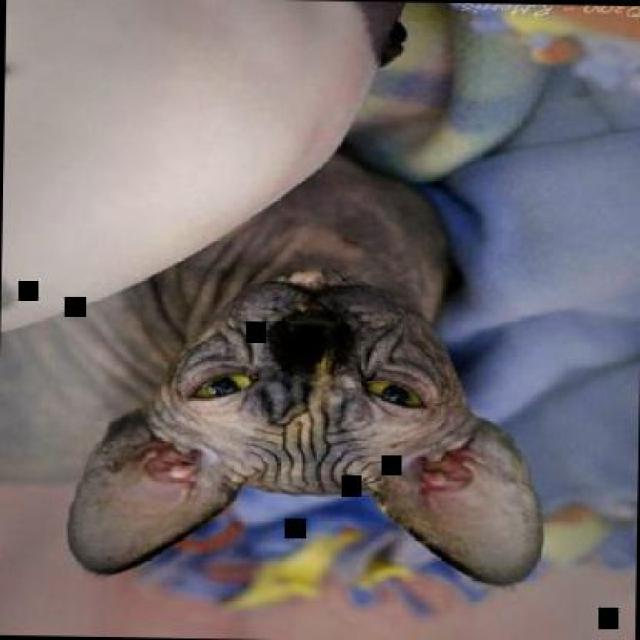cat: (0, 152, 551, 590)
